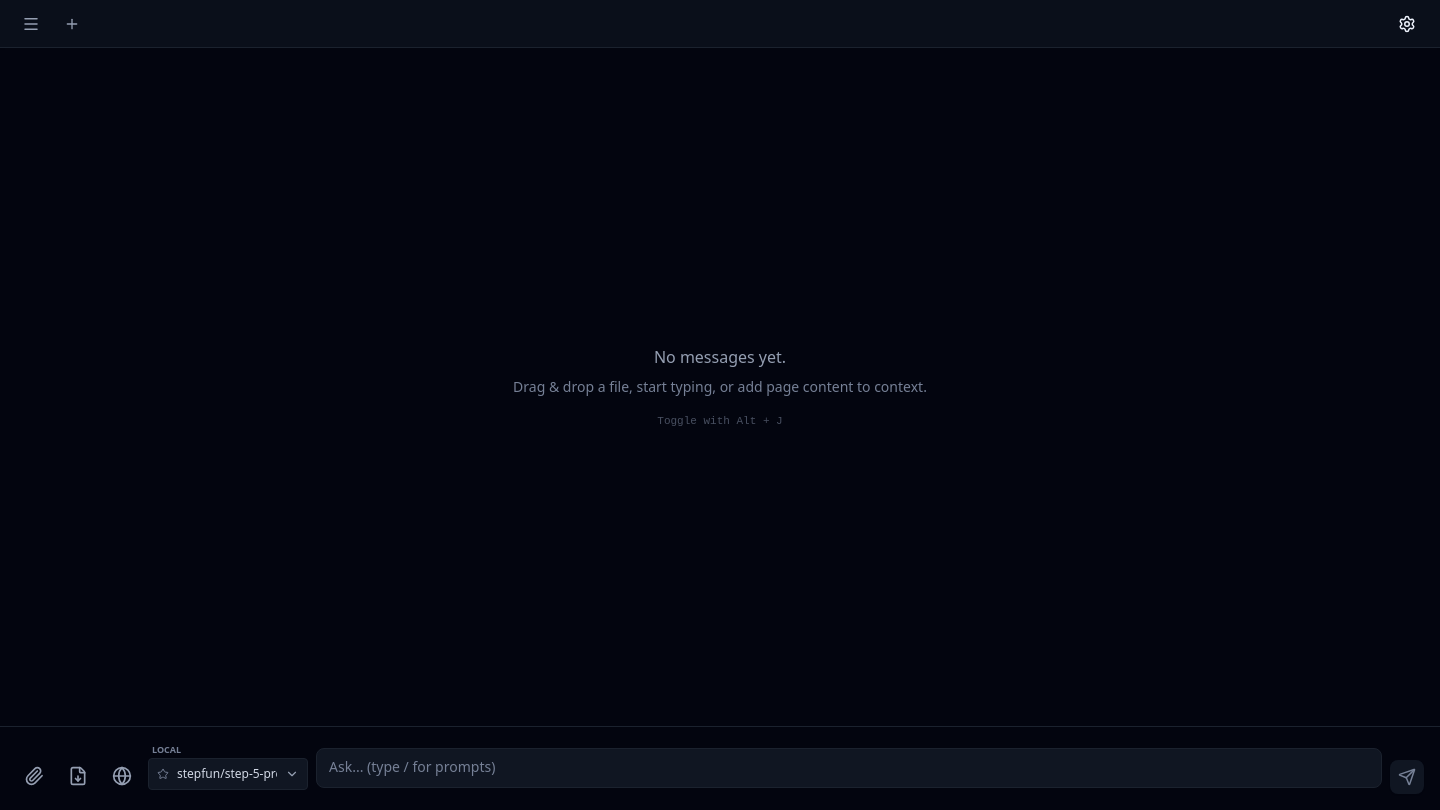
Test case: App Integration › clears the previous cloud model when local model discovery is failed
Focus the dropdown at (227, 774), box [177,766,277,782]
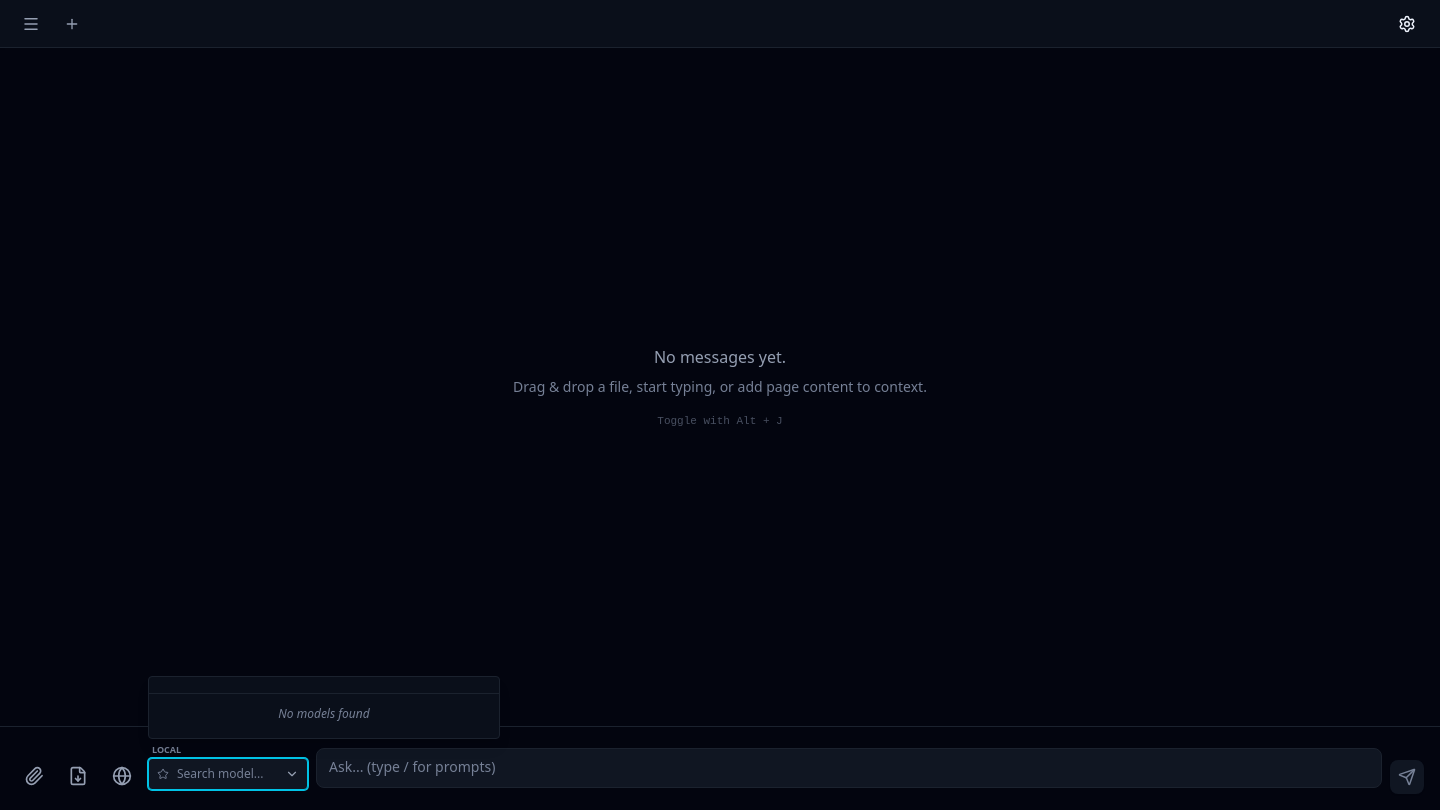
expect the dropdown is empty: met, box [177,766,277,782]
expect the text "No models found" is shown: met, box [278,704,370,722]
